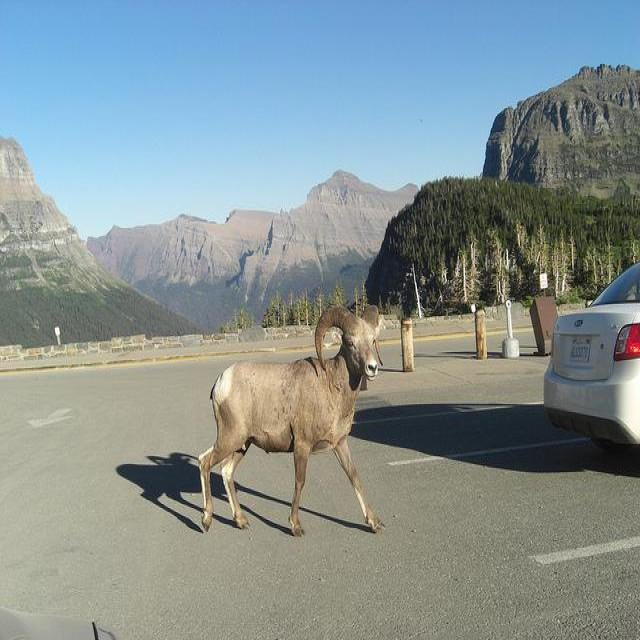Sheep: (198, 304, 387, 540)
